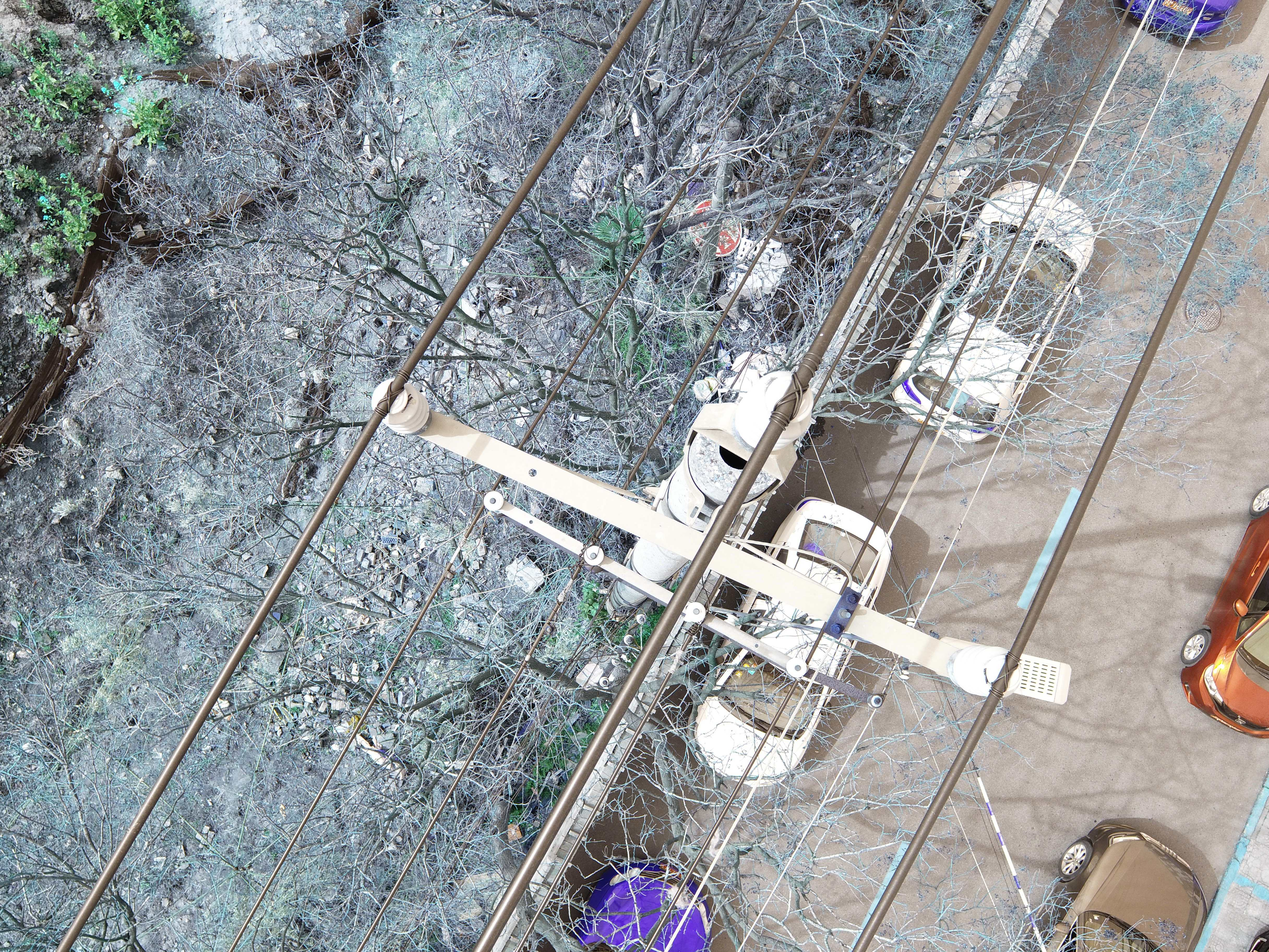severe_soiling_no_discharge_whole: (867, 693, 883, 709)
